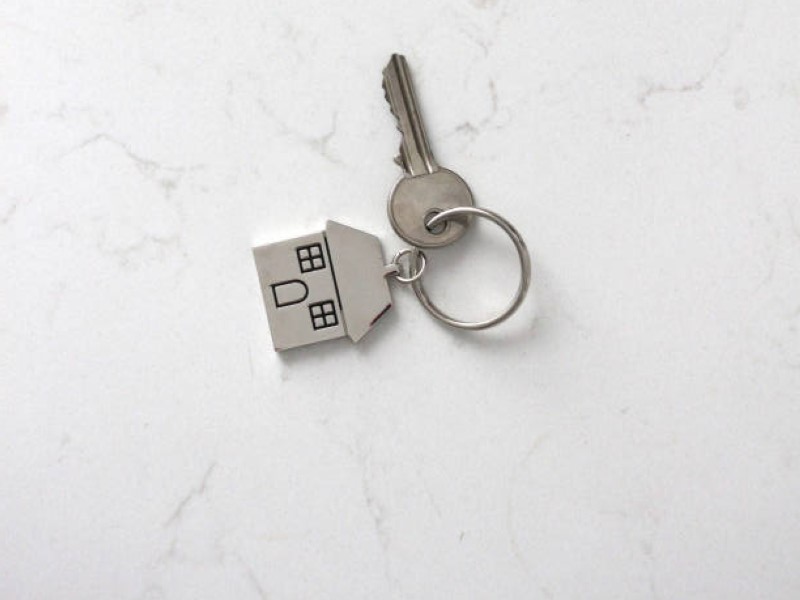key: (372, 49, 482, 248)
